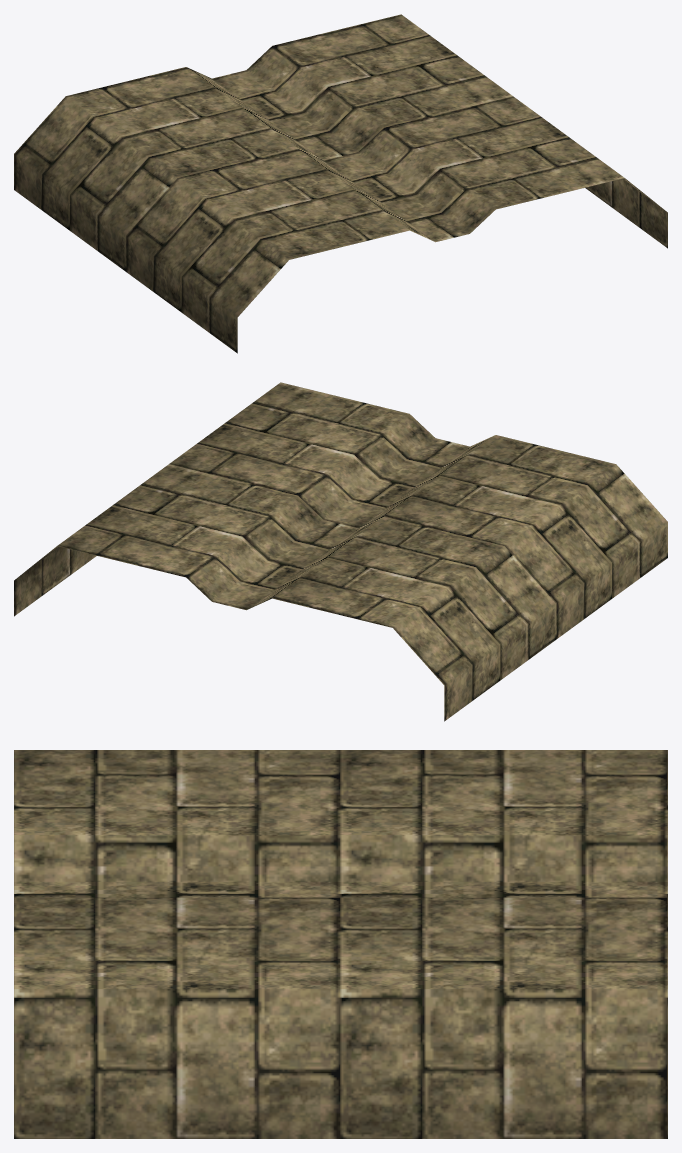
The model's file is OVERHILL_A_01_LINE143.fbx.
3 views of the same model, one above another, from view 1: azimuth 30°, elevation 25°; view 2: azimuth 150°, elevation 25°; view 3: azimuth 270°, elevation 25° (orthographic). The views are drawn at different scales.
Parts seen in each view (by area): view 1: OVERHILL_A_01_LINE143; view 2: OVERHILL_A_01_LINE143; view 3: OVERHILL_A_01_LINE143.
Part boxes in pixels (left/top/right/bottom): OVERHILL_A_01_LINE143: left=14, top=14, right=667, bottom=353; OVERHILL_A_01_LINE143: left=14, top=382, right=667, bottom=721; OVERHILL_A_01_LINE143: left=14, top=750, right=667, bottom=1138.
Bounding box in the file's own units: 50000 × 9000 × 45000.
Materials: 1 (1 with a texture image).
